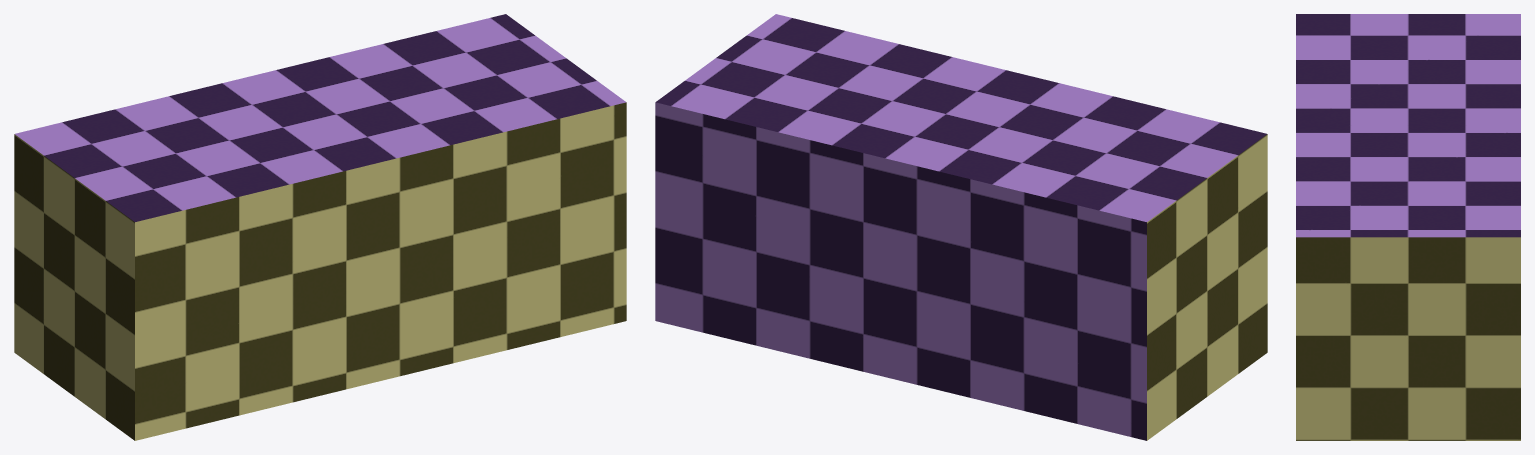
File: cube_single_uv_multi_material.fbx
3 renders of one model, left to right at view 1: azimuth 30°, elevation 25°; view 2: azimuth 150°, elevation 25°; view 3: azimuth 270°, elevation 25°, orthographic. The views are drawn at different scales.
Parts seen in each view (by area): view 1: cube; view 2: cube; view 3: cube.
Part boxes in pixels (<box>): cube: <box>14,14,626,440</box>; cube: <box>655,14,1267,440</box>; cube: <box>1296,14,1520,440</box>.
Size of the model in its own units: 10.63 by 4.52 by 4.52.
